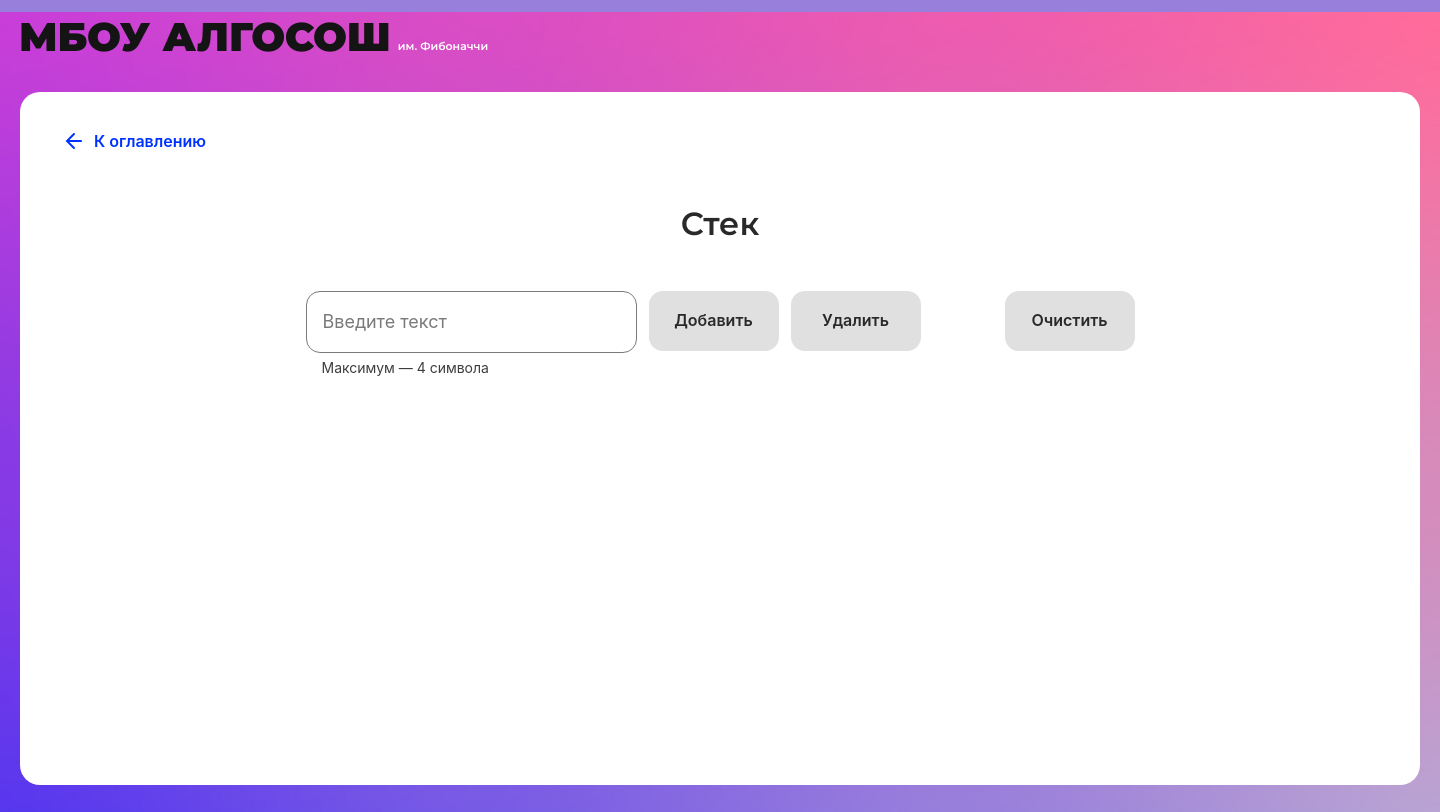
Stack page test › Input value length cant be longer then 4
Type "12345" into the field with placeholder "Введите текст" at (472, 322), box [306, 291, 637, 353]
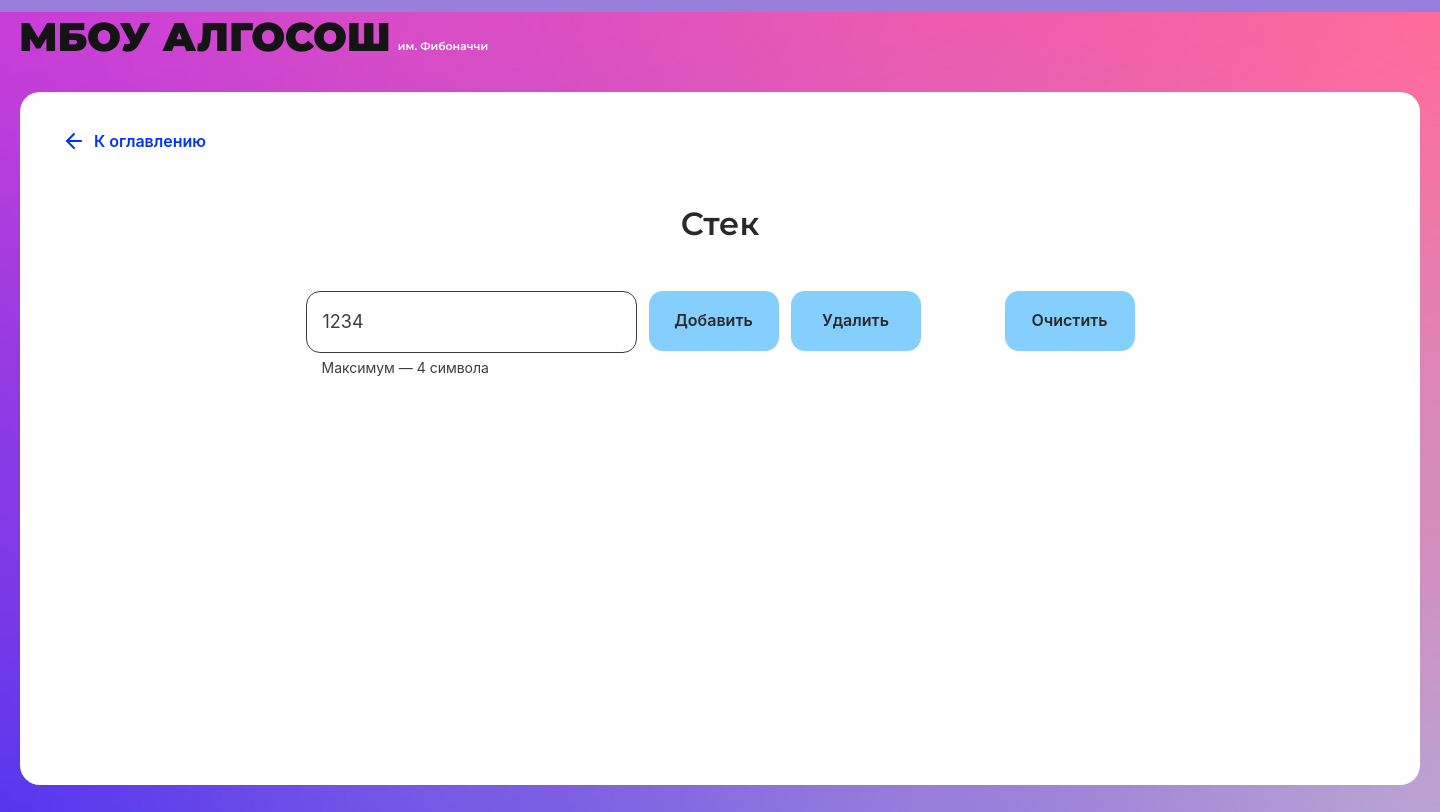
Expected: the field holds "1234", [306, 291, 637, 353]
